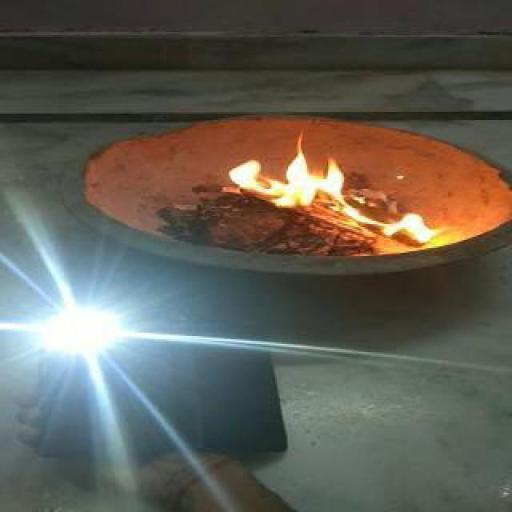smoke: (222, 146, 440, 248)
